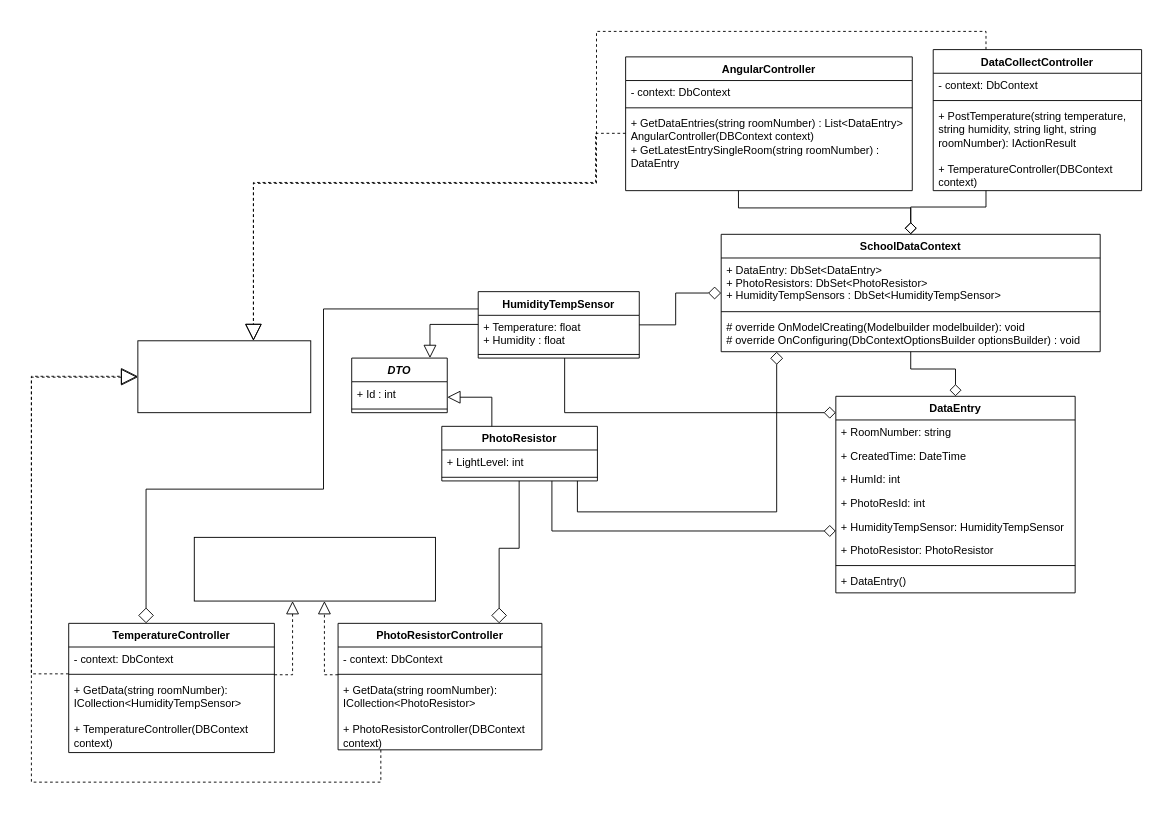
This 1158x814 diagram has some shape labels left out. Here are the shapes that lost their labels. From the top down, the centre of each, then its label:
the point at 224,376: <<Interface>> IHaveDbContextData + context: DbContext
the point at 314,568: <<Interface>> IFetchData<T> + GetData(string roomNumber): ICollection<T>
